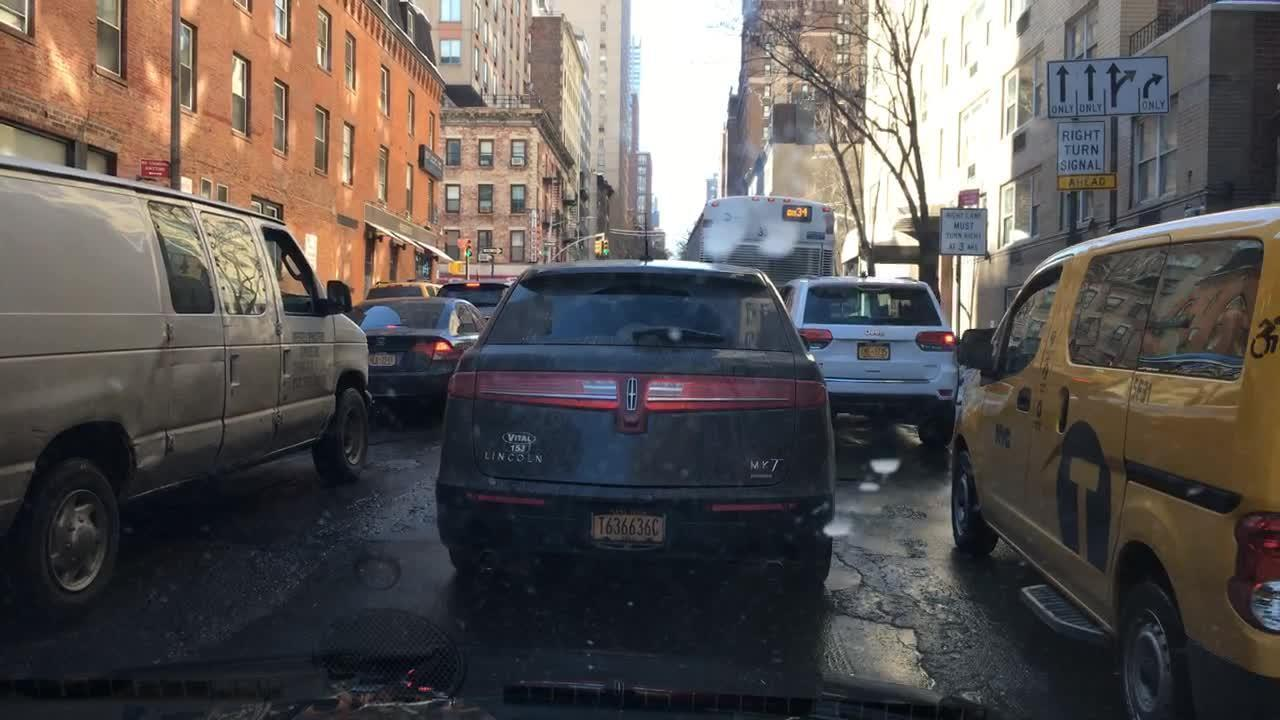jeep: (859, 325, 890, 339)
lincoln: (614, 365, 649, 431)
